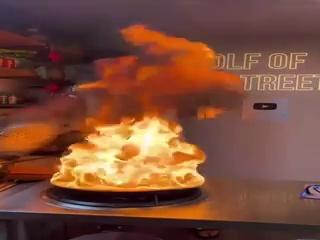Fire: (36, 60, 215, 194)
